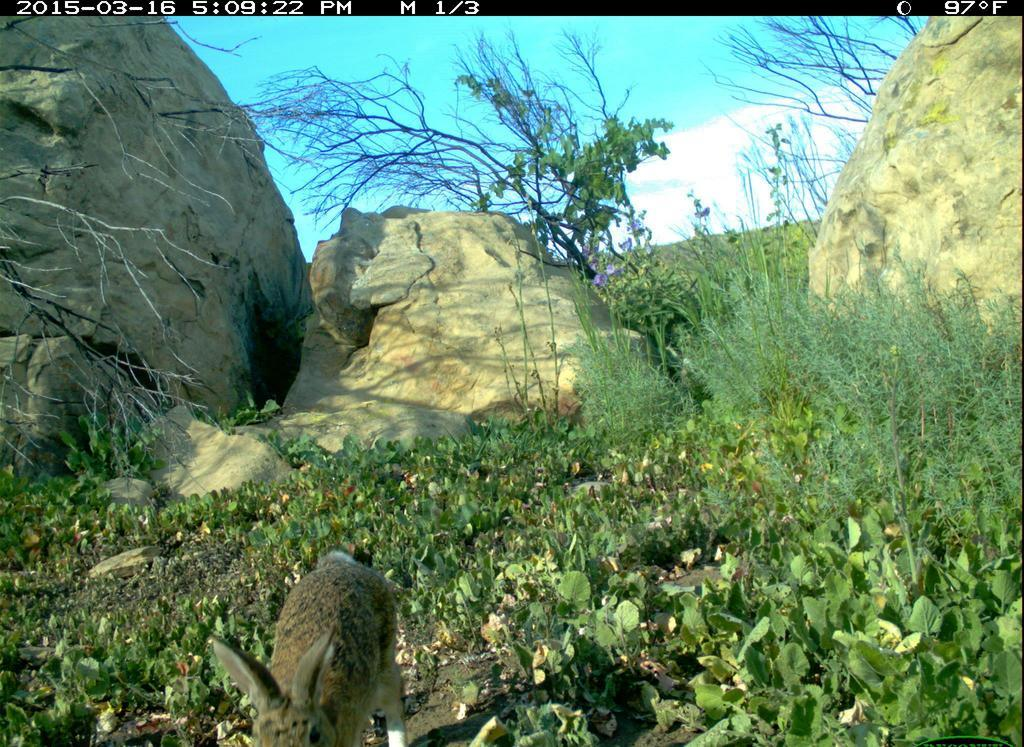rabbit: (203, 542, 424, 744)
